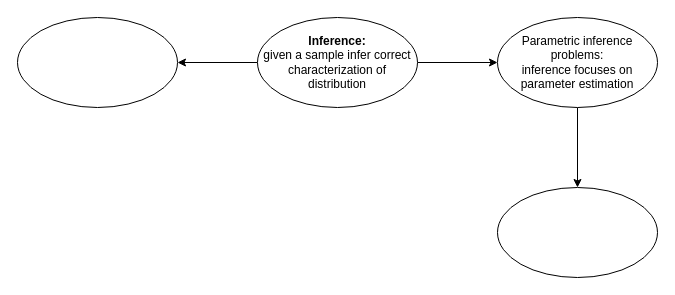
The diagram is 675 pixels wide and 295 high, and some of its shapes have lost their labels. Here are the shapes that lost their labels. From the top down, the centre of each, then its label:
[97,62]: Non-parametric inference problems
[577,232]: assumes X follows family of distributions $$F_{theta}$$
